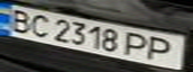1: (84, 22, 106, 51)
2: (48, 16, 72, 44)
3: (66, 20, 87, 47)
8: (100, 26, 124, 54)
B: (0, 6, 36, 34)
C: (24, 11, 54, 38)
P: (142, 34, 184, 63), (121, 30, 154, 60)
